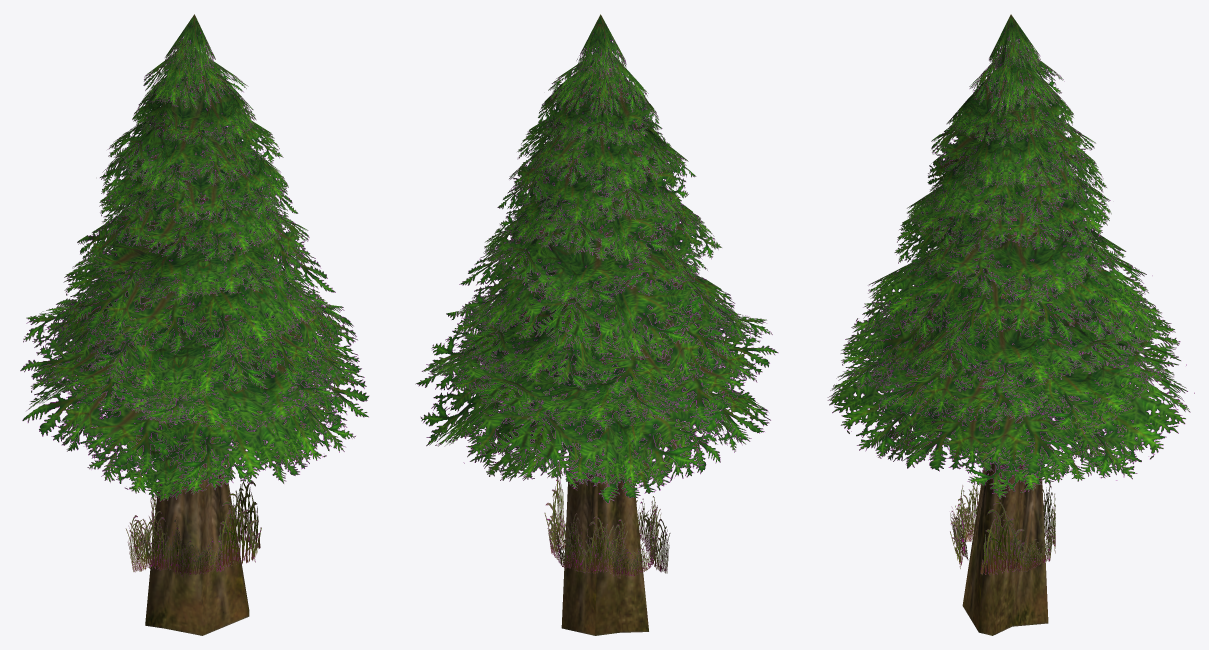
File: n_SEbtree01.glb
The picture shows the model from 3 angles, left to right: view 1: azimuth 30°, elevation 25°; view 2: azimuth 150°, elevation 25°; view 3: azimuth 270°, elevation 25°; orthographic projection.
Visible parts, largest first — view 1: n_SEbtree01; view 2: n_SEbtree01; view 3: n_SEbtree01.
Boxes of the visible parts, <box> form: n_SEbtree01: <box>20,14,369,635</box>; n_SEbtree01: <box>415,14,778,635</box>; n_SEbtree01: <box>827,14,1194,635</box>.
Size of the model in its own units: 4.34 by 7.43 by 4.2.
Materials: 3 (3 with a texture image).
